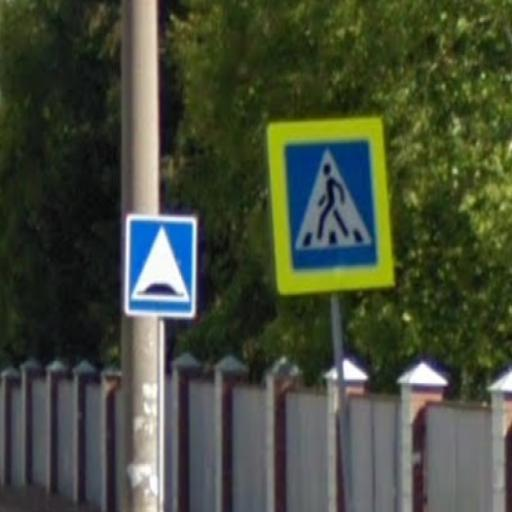traffic_sign: (267, 117, 397, 298), (126, 215, 199, 321)
